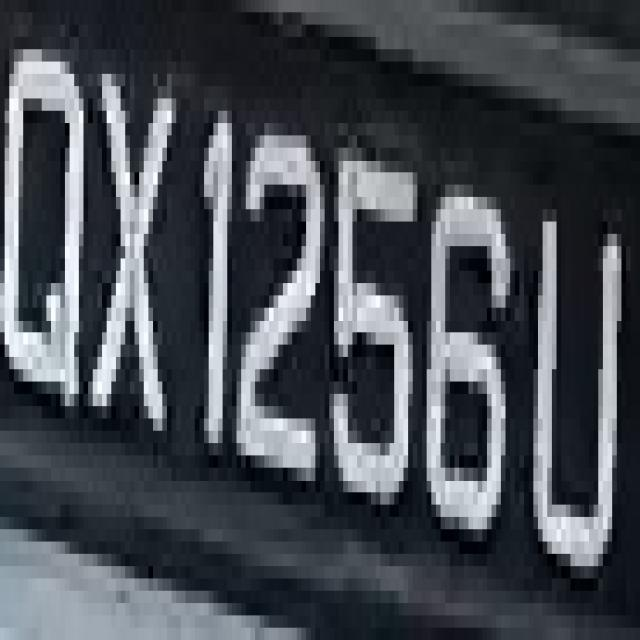1: (190, 62, 241, 480)
2: (236, 74, 324, 529)
5: (334, 98, 422, 517)
6: (422, 185, 515, 566)
Q: (14, 12, 93, 468)
U: (524, 185, 640, 603)
X: (78, 24, 172, 456)
